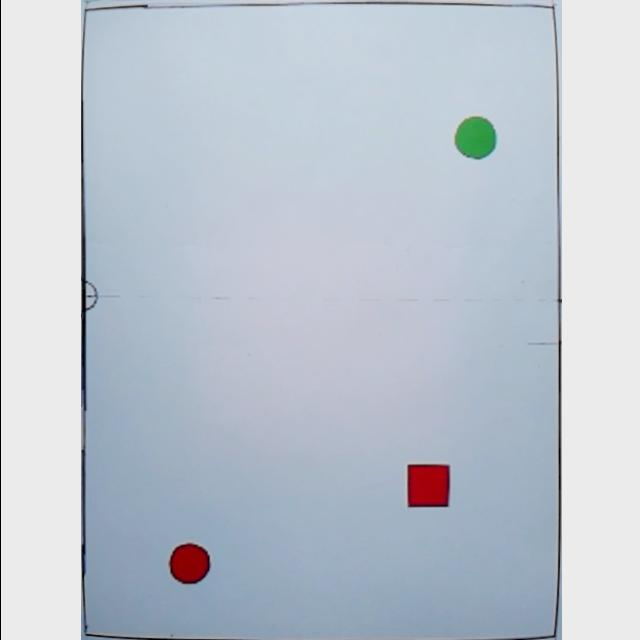greenCircle: (450, 115, 498, 161)
redCircle: (165, 542, 211, 584)
redSquare: (402, 460, 452, 510)
